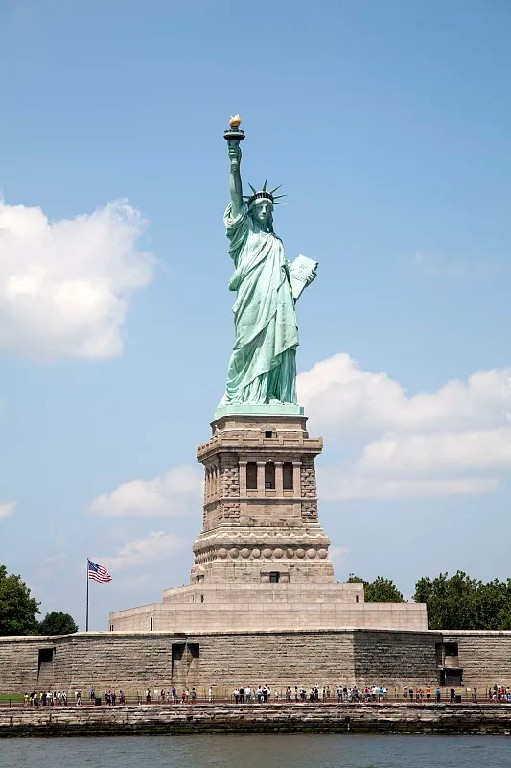SL: (189, 113, 336, 586)
